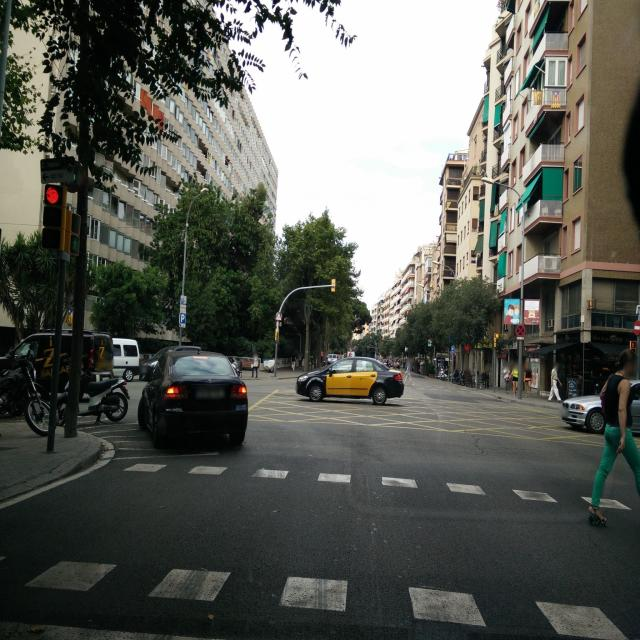bike: (24, 356, 129, 428)
car: (0, 329, 128, 419), (138, 352, 249, 448), (296, 355, 405, 405), (561, 385, 640, 435), (141, 345, 204, 380), (112, 337, 140, 381), (226, 355, 242, 376), (263, 357, 277, 373), (240, 356, 253, 371)
